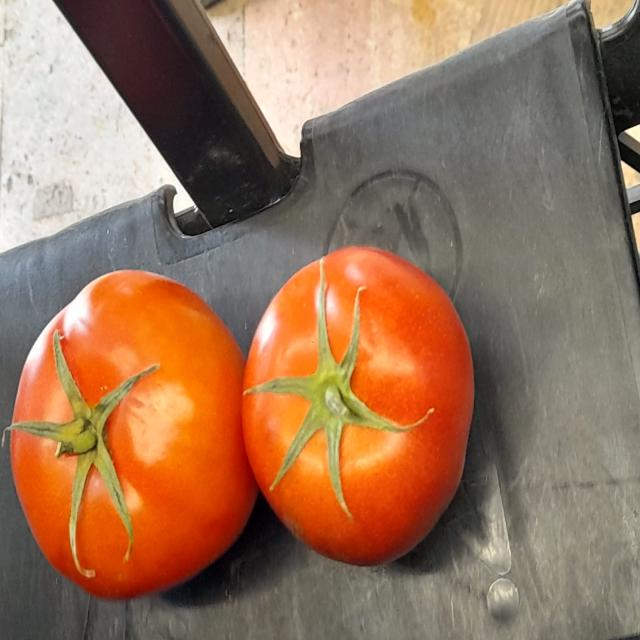tomato: (5, 259, 260, 608), (238, 237, 482, 579)
